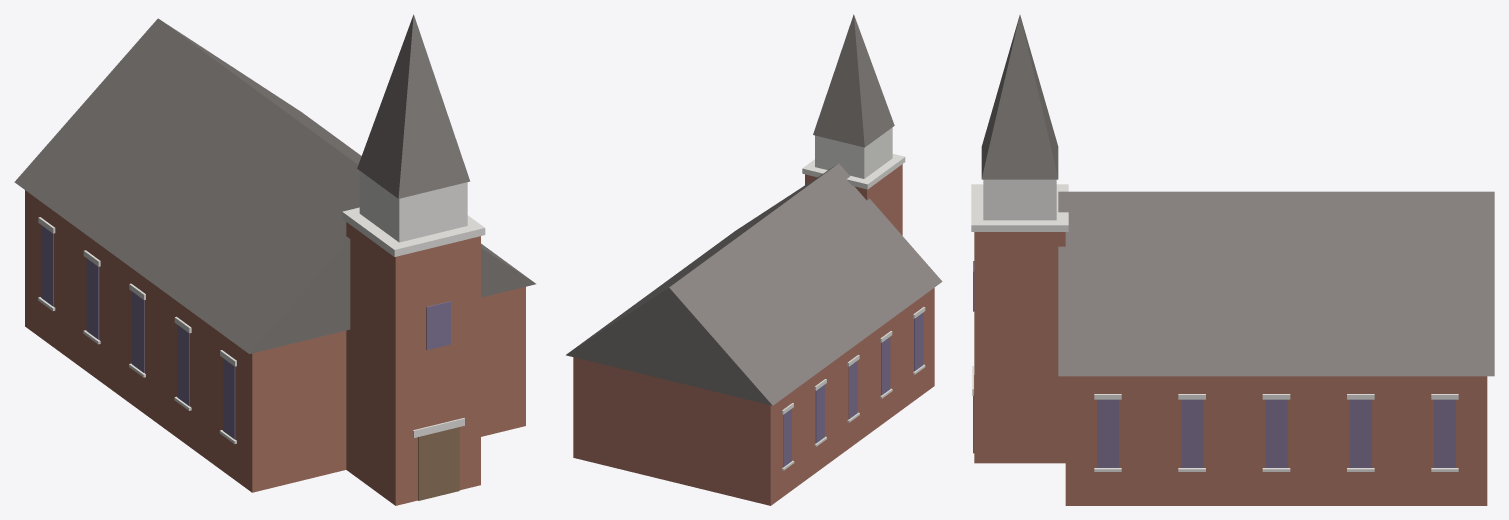
Rendered from SM_Church_A.fbx.
The picture shows the model from 3 angles, left to right: view 1: azimuth 30°, elevation 25°; view 2: azimuth 150°, elevation 25°; view 3: azimuth 270°, elevation 25°; orthographic projection. The views are drawn at different scales.
Visible parts, largest first — view 1: SM_Church_A_LOD0; view 2: SM_Church_A_LOD0; view 3: SM_Church_A_LOD0.
Boxes of the visible parts, <box> form: SM_Church_A_LOD0: <box>14,14,535,505</box>; SM_Church_A_LOD0: <box>566,14,942,505</box>; SM_Church_A_LOD0: <box>971,15,1494,505</box>.
Size of what is drawn, in the model's own units: 16.8 by 25.9 by 28.55.
